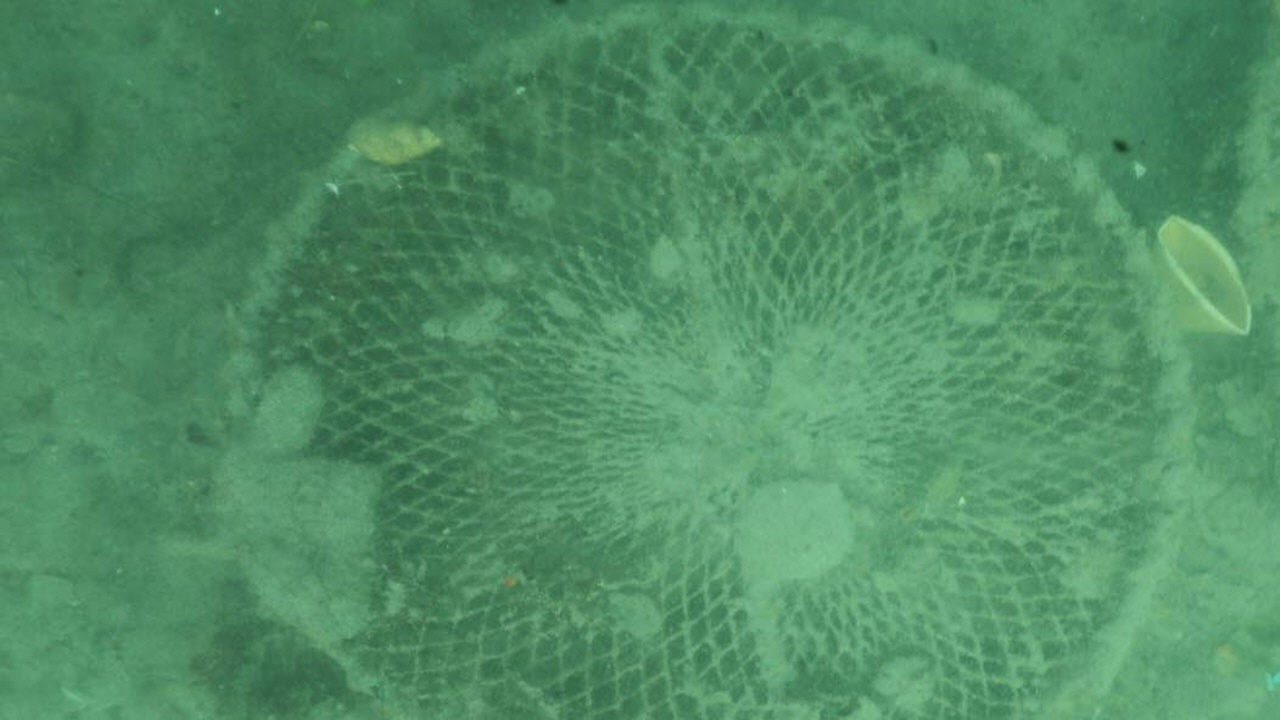circular fish trap: (261, 8, 1198, 720)
